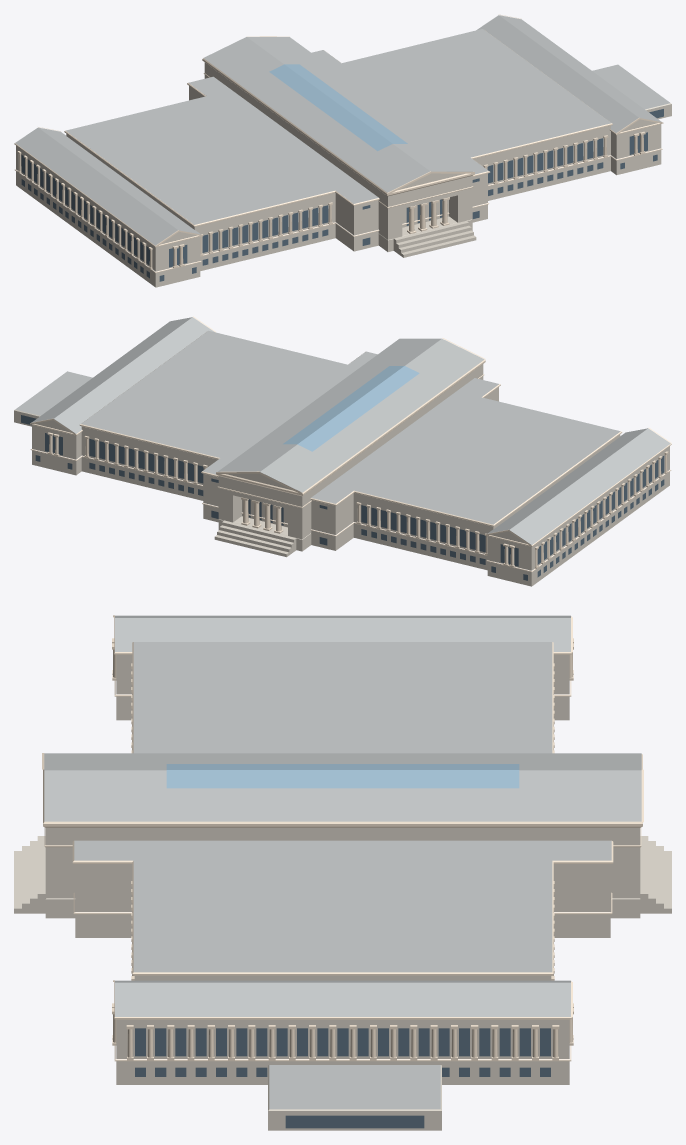
Rendered from chi-field-museum.glb.
3 views of the same model, one above another, from view 1: azimuth 30°, elevation 25°; view 2: azimuth 150°, elevation 25°; view 3: azimuth 270°, elevation 25° (orthographic). The views are drawn at different scales.
Visible parts, largest first — view 1: Field Museum; view 2: Field Museum; view 3: Field Museum.
Boxes of the visible parts, left/top/right/bottom form: Field Museum: left=14, top=14, right=671, bottom=287; Field Museum: left=14, top=316, right=671, bottom=586; Field Museum: left=14, top=615, right=671, bottom=1130.
Size of the model in its own units: 240 by 28.9 by 149.
